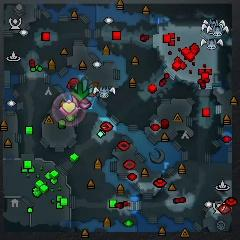Other: (60, 99, 77, 117)
x1: (71, 95, 79, 107)
x3: (75, 79, 92, 93)
x4: (70, 83, 89, 101)
